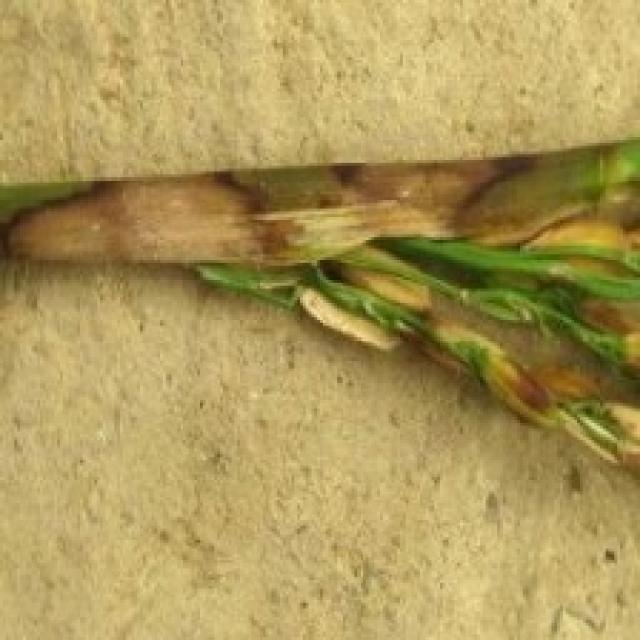Bacterial_Blight: (0, 132, 640, 273)
